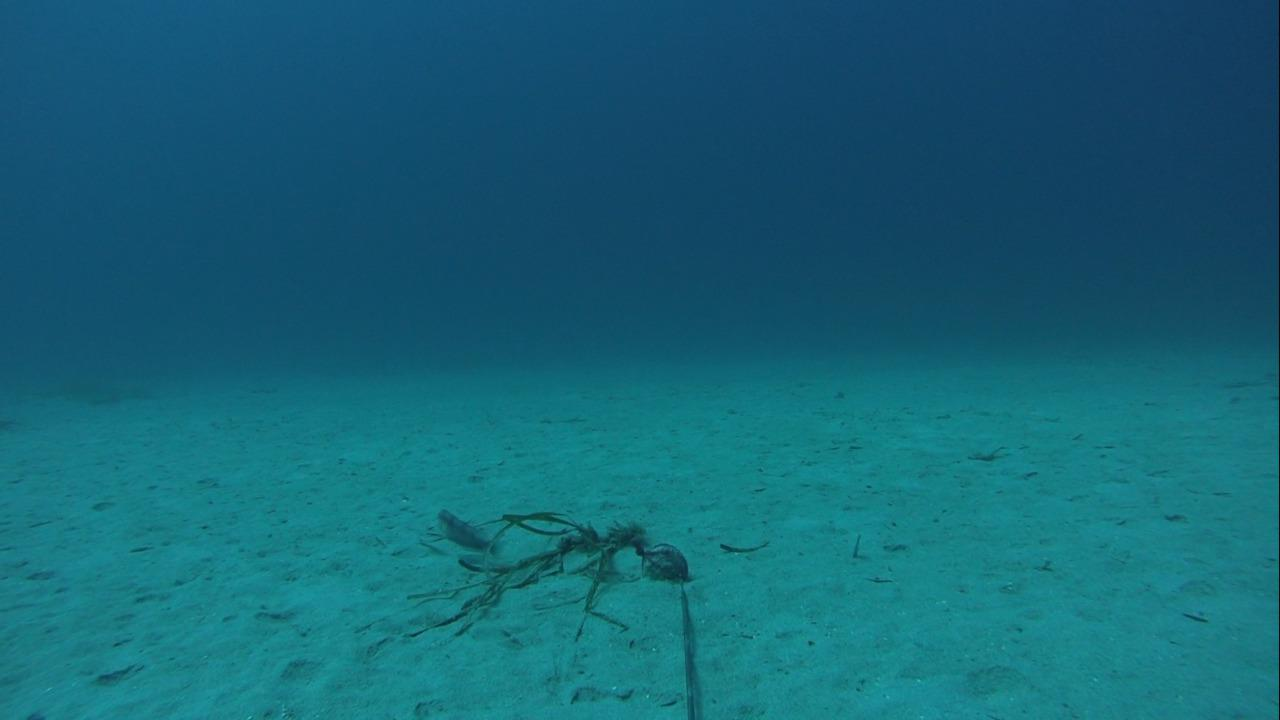raor: (425, 502, 499, 551)
